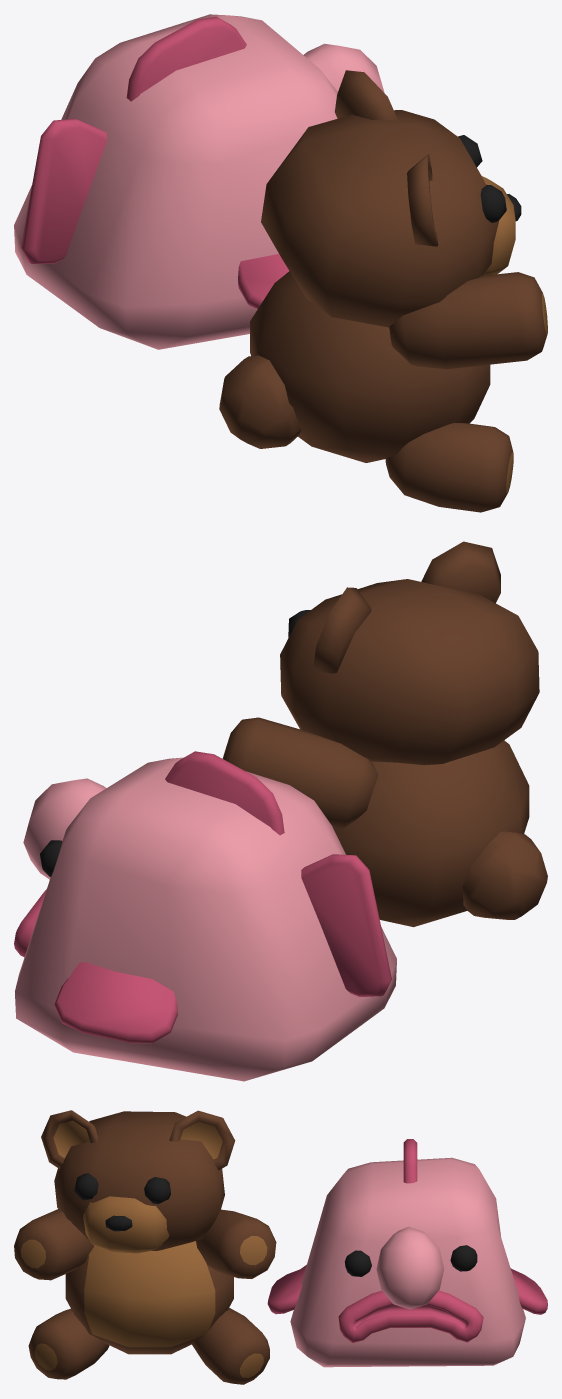
Rendered from clawitems.glb.
3 renders of one model, top to bottom at view 1: azimuth 30°, elevation 25°; view 2: azimuth 150°, elevation 25°; view 3: azimuth 270°, elevation 25°, orthographic. The views are drawn at different scales.
Parts seen in each view (by area): view 1: Cube, Cube.001; view 2: Cube.001, Cube; view 3: Cube, Cube.001.
Part boxes in pixels (x1,y1,x2,y2): Cube: [219, 70, 547, 512]; Cube.001: [14, 14, 384, 349]; Cube.001: [14, 751, 396, 1081]; Cube: [222, 541, 547, 927]; Cube: [14, 1110, 276, 1384]; Cube.001: [267, 1139, 547, 1367].
Size of the model in its own units: 1.18 by 1.15 by 2.13.
